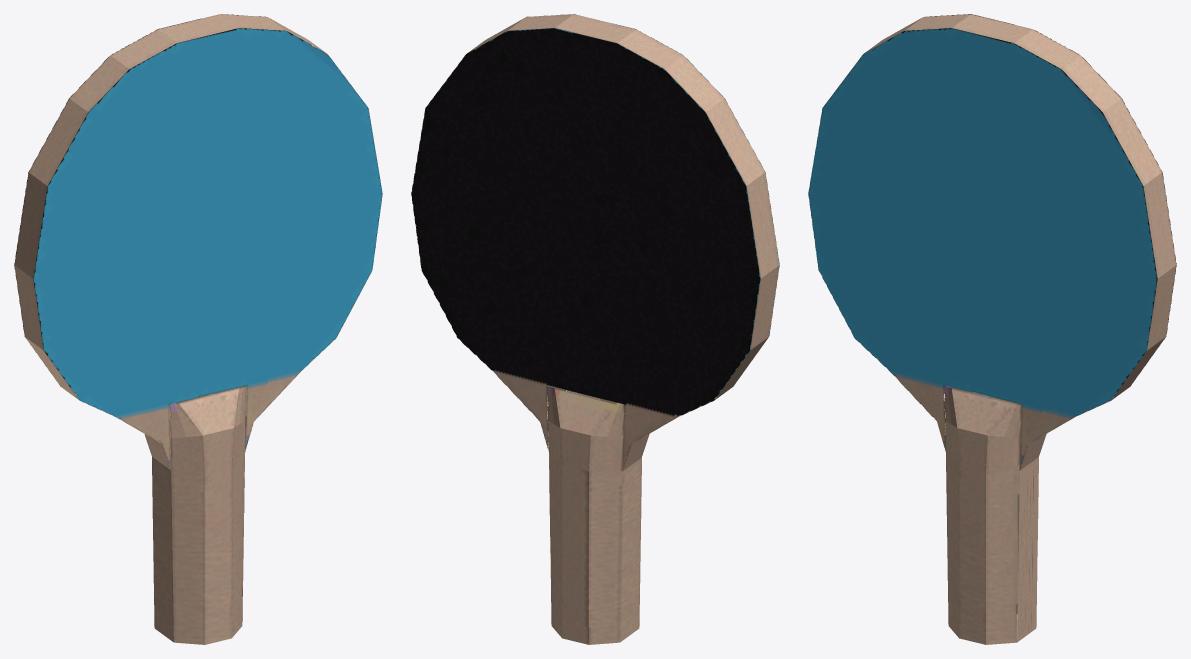
File: TableTennisRacket_Blue.fbx
The picture shows the model from 3 angles, left to right: view 1: azimuth 30°, elevation 25°; view 2: azimuth 150°, elevation 25°; view 3: azimuth 330°, elevation 25°; orthographic projection.
Visible parts, largest first — view 1: table tennis racket; view 2: table tennis racket; view 3: table tennis racket.
Boxes of the visible parts, x1,y1,x2,y2 form: table tennis racket: [14, 14, 382, 644]; table tennis racket: [411, 14, 779, 644]; table tennis racket: [808, 14, 1176, 644].
Bounding box in the file's own units: 49.65 × 81.31 × 9.78.
